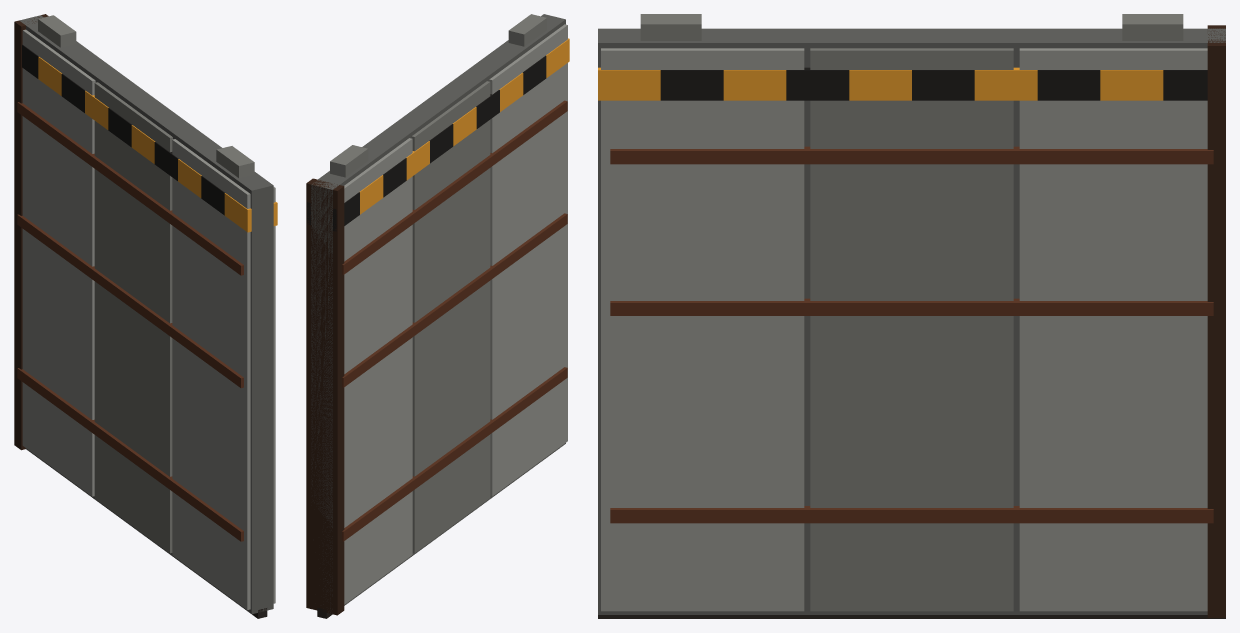
Rendered from fort_outpost_leaf.glb.
3 views of the same model, side by side, from view 1: azimuth 30°, elevation 25°; view 2: azimuth 150°, elevation 25°; view 3: azimuth 270°, elevation 25° (orthographic). The views are drawn at different scales.
Parts seen in each view (by area): view 1: fort_outpost_leaf; view 2: fort_outpost_leaf; view 3: fort_outpost_leaf.
Part boxes in pixels (bbox=[...]): fort_outpost_leaf: bbox=[14, 14, 277, 618]; fort_outpost_leaf: bbox=[306, 14, 569, 618]; fort_outpost_leaf: bbox=[598, 14, 1225, 618].
Size of the model in its own units: 0.88 by 10.8 by 10.3.
